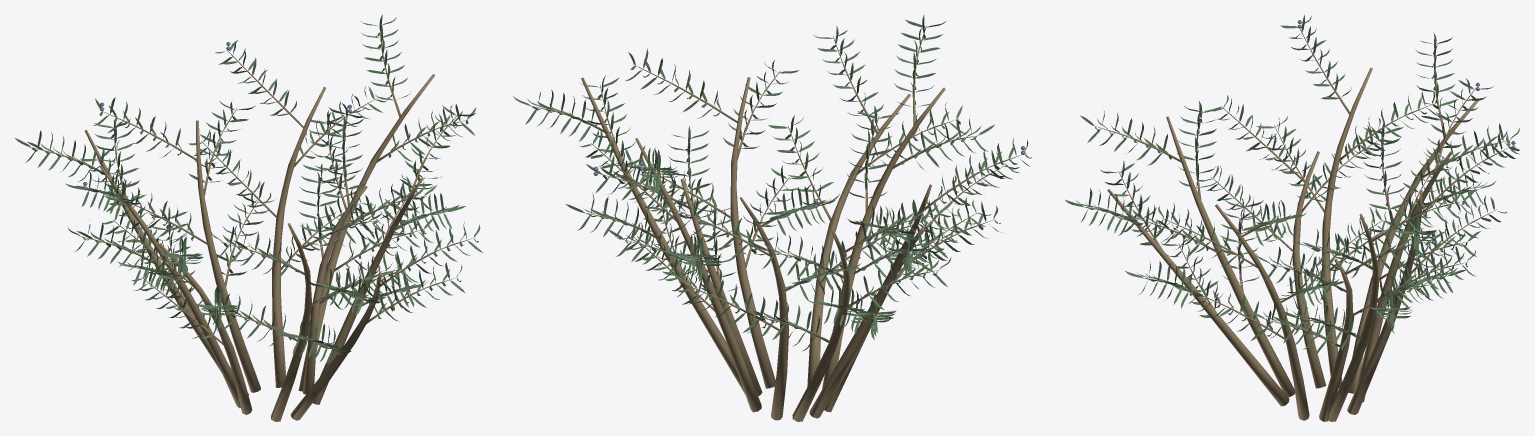
The model's file is Romarin_0_Niveau0.fbx.
The picture shows the model from 3 angles, left to right: view 1: azimuth 30°, elevation 25°; view 2: azimuth 150°, elevation 25°; view 3: azimuth 270°, elevation 25°; orthographic projection. The views are drawn at different scales.
Parts seen in each view (by area): view 1: Romarin_0_Niveau0_Jeu; view 2: Romarin_0_Niveau0_Jeu; view 3: Romarin_0_Niveau0_Jeu.
Boxes of the visible parts, x1,y1,x2,y2 form: Romarin_0_Niveau0_Jeu: (15,14,482,421); Romarin_0_Niveau0_Jeu: (513,15,1031,421); Romarin_0_Niveau0_Jeu: (1065,15,1519,421).
Bounding box in the file's own units: 59.19 × 41.05 × 55.47.
